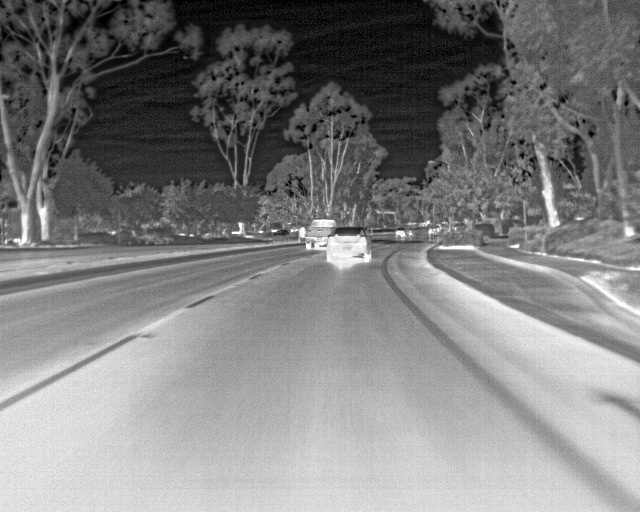vehicle: (327, 225, 373, 267), (303, 215, 340, 253)
